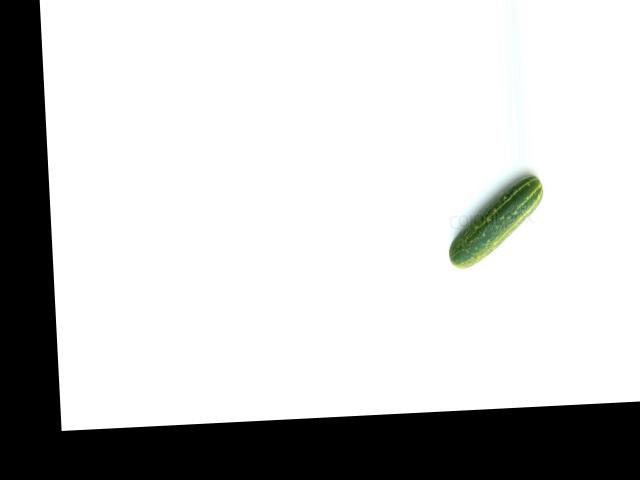cucumber: (446, 174, 547, 269)
